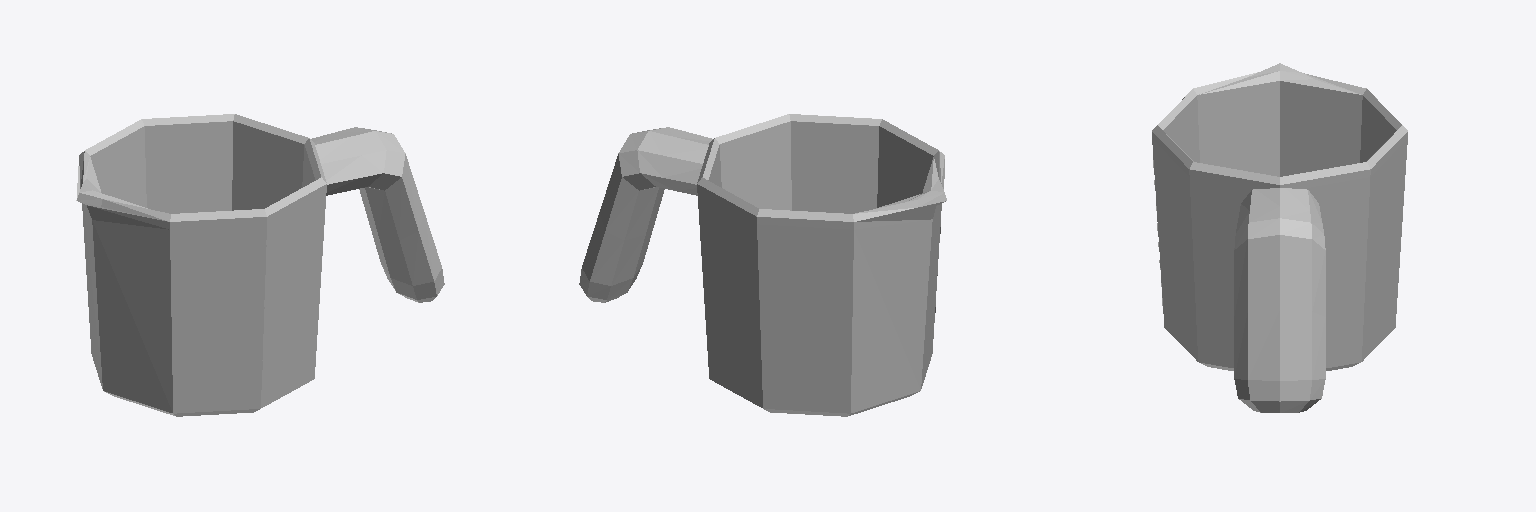
The model's file is mcup_measuring_cup_small.obj.
3 views of the same model, side by side, from view 1: azimuth 30°, elevation 25°; view 2: azimuth 150°, elevation 25°; view 3: azimuth 270°, elevation 25° (orthographic).
Visible parts, largest first — view 1: mcup_measuring_cup_small_Cylinder.013; view 2: mcup_measuring_cup_small_Cylinder.013; view 3: mcup_measuring_cup_small_Cylinder.013.
Boxes of the visible parts, x1=… form: mcup_measuring_cup_small_Cylinder.013: x1=76, y1=114, x2=444, y2=416; mcup_measuring_cup_small_Cylinder.013: x1=579, y1=114, x2=946, y2=416; mcup_measuring_cup_small_Cylinder.013: x1=1152, y1=63, x2=1407, y2=412.
Bounding box in the file's own units: 4.1 × 2.32 × 2.54.